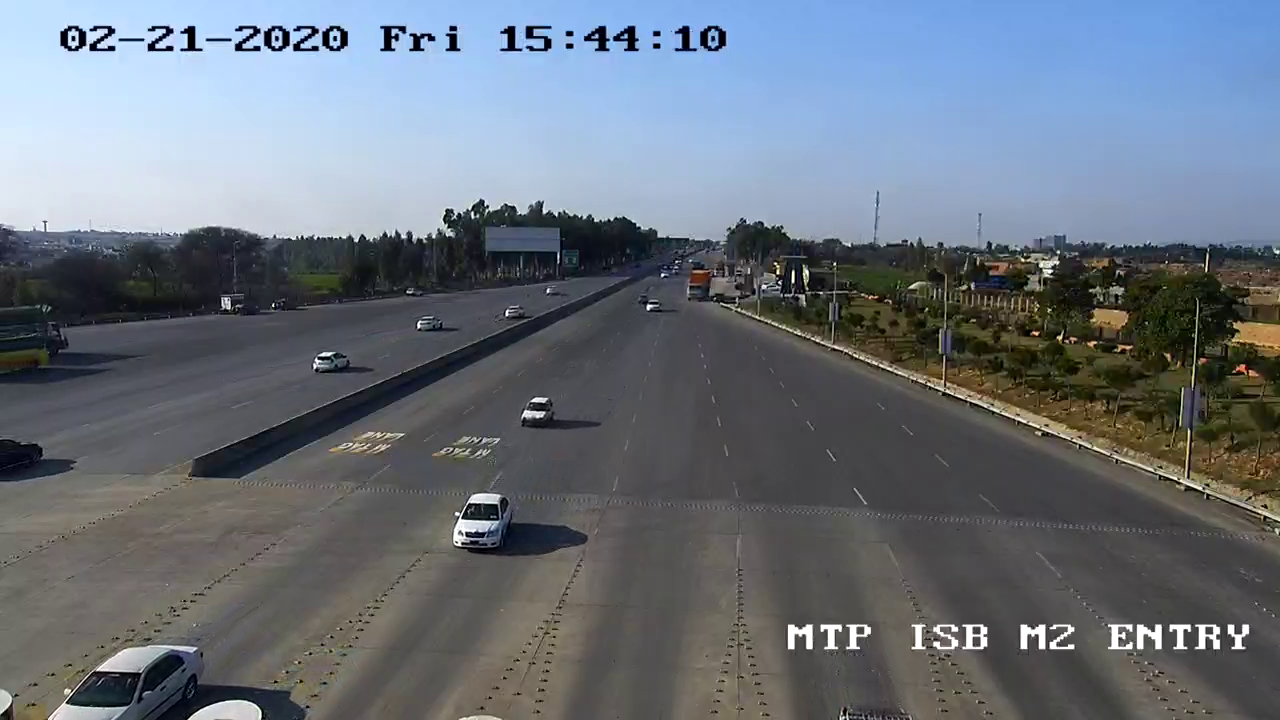f1: (442, 488, 525, 557), (514, 389, 560, 432)
